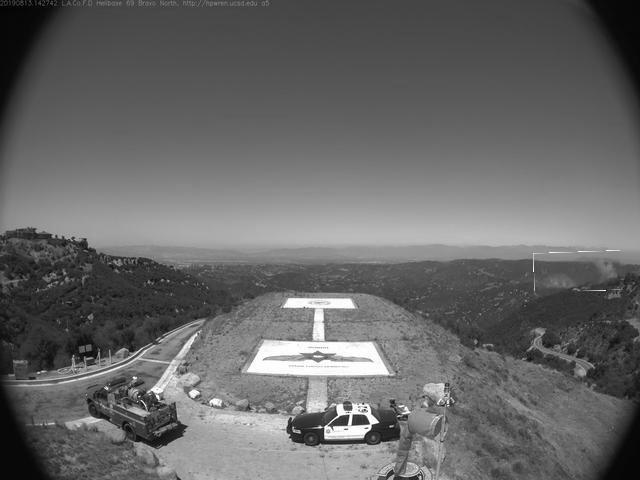smoke: (535, 252, 622, 293)
